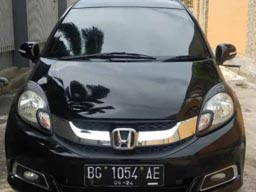plat: (86, 166, 163, 180)
